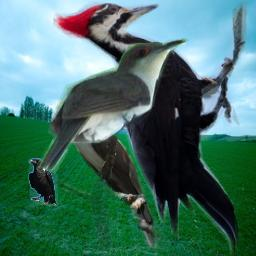Crow: (28, 158, 58, 206)
Cuckoo: (37, 38, 189, 174), (57, 104, 166, 248)
Woodpecker: (53, 1, 248, 256)
